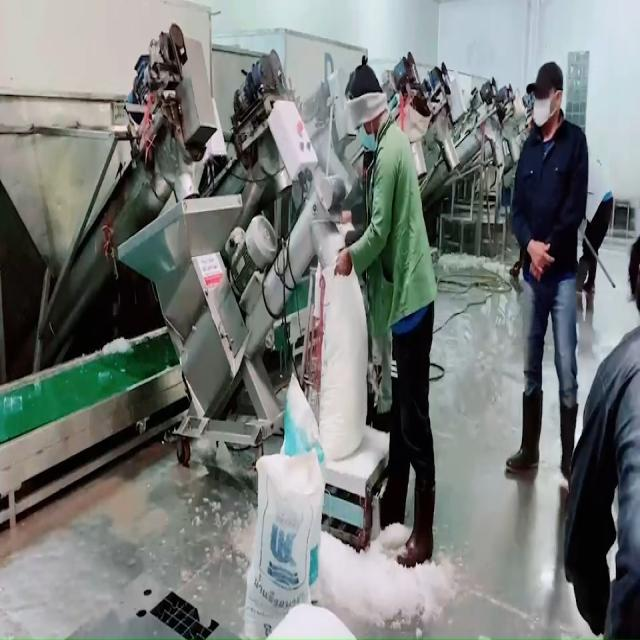ice-bag: (314, 253, 376, 469), (267, 455, 327, 622)
